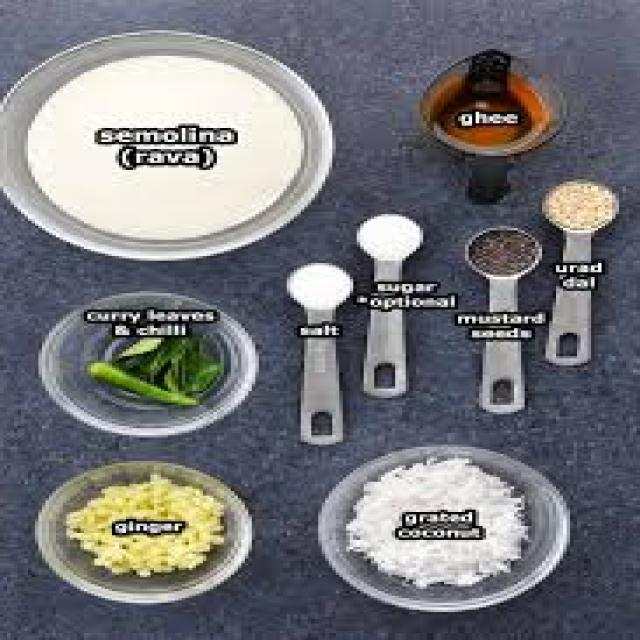UPMA: (343, 456, 528, 584)
